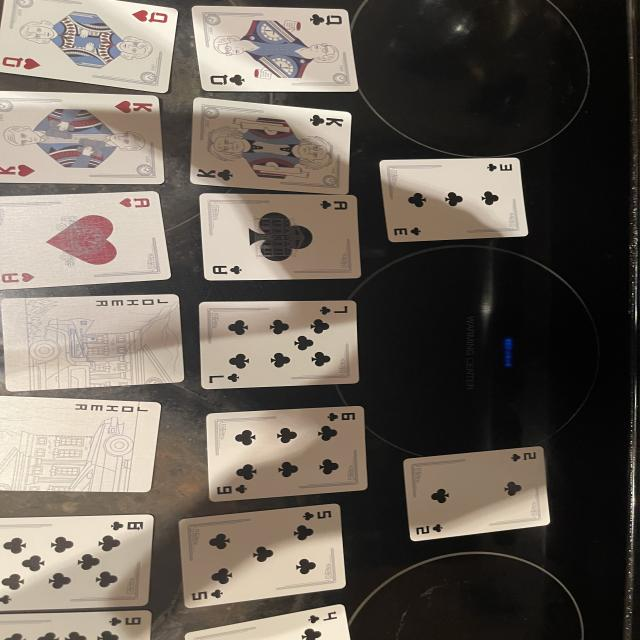2 of clubs: (403, 446, 550, 541)
3 of clubs: (380, 158, 528, 242)
4 of clubs: (185, 605, 350, 640)
5 of clubs: (178, 504, 345, 608)
6 of clubs: (207, 406, 367, 501)
7 of clubs: (198, 300, 358, 389)
8 of clubs: (0, 514, 153, 611)
9 of clubs: (0, 610, 152, 640)
Ace of clubs: (200, 194, 362, 280)
Ace of hearts: (0, 191, 170, 290)
Joker: (2, 295, 183, 391), (0, 396, 160, 492)
King of clubs: (190, 98, 352, 195)
King of hearts: (0, 91, 163, 185)
Queen of clubs: (192, 6, 358, 91)
Queen of hearts: (0, 0, 178, 92)
